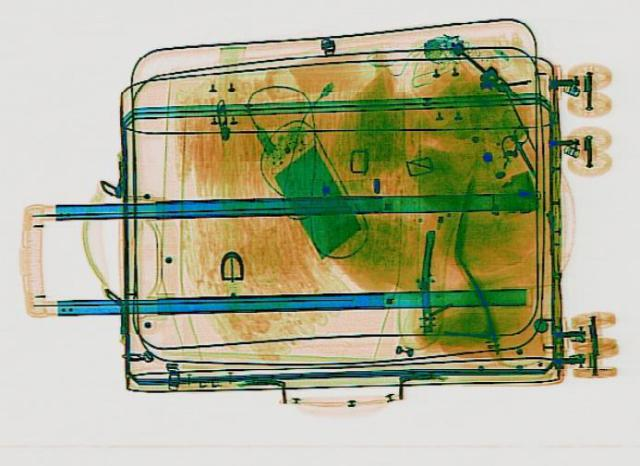Scissors: (491, 122, 549, 178)
